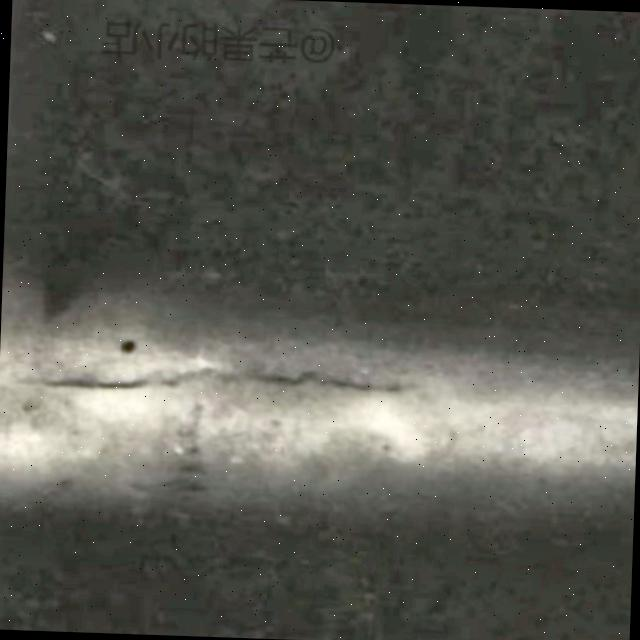Crack: (0, 323, 436, 437)
Pore: (104, 333, 151, 358)
